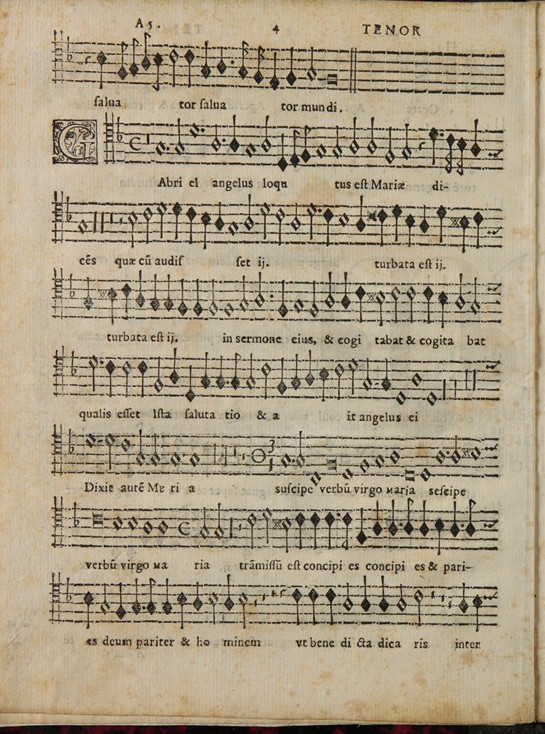breve rest: (108, 202, 116, 244)
c clef_5: (47, 204, 66, 251)
custos_8: (483, 210, 501, 251)
flat_6: (62, 189, 73, 224)
longa rest: (89, 204, 99, 242), (97, 203, 106, 244)
minim rest: (116, 203, 126, 246)
minim_4: (300, 195, 317, 245), (152, 204, 169, 242), (254, 204, 271, 242)
minim_5: (138, 204, 154, 246), (272, 204, 287, 248)
minim_6: (125, 204, 139, 248)
minim_7: (240, 204, 257, 238), (288, 204, 303, 240)
point: (311, 204, 325, 218)
semibreve_6: (333, 207, 353, 232)
semibreve_8: (226, 214, 241, 240), (75, 214, 89, 238)
semiminim_4: (389, 199, 404, 245), (434, 200, 447, 246), (171, 195, 183, 244)
semiminim_5: (320, 201, 334, 249), (375, 202, 389, 248), (470, 205, 484, 251), (184, 200, 197, 248)
semiminim_6: (198, 203, 211, 251), (403, 207, 417, 249), (458, 209, 471, 253)
semiminim_7: (353, 190, 367, 237), (212, 196, 225, 235), (418, 201, 431, 238)
sharp: (362, 204, 380, 225), (446, 210, 462, 231)
